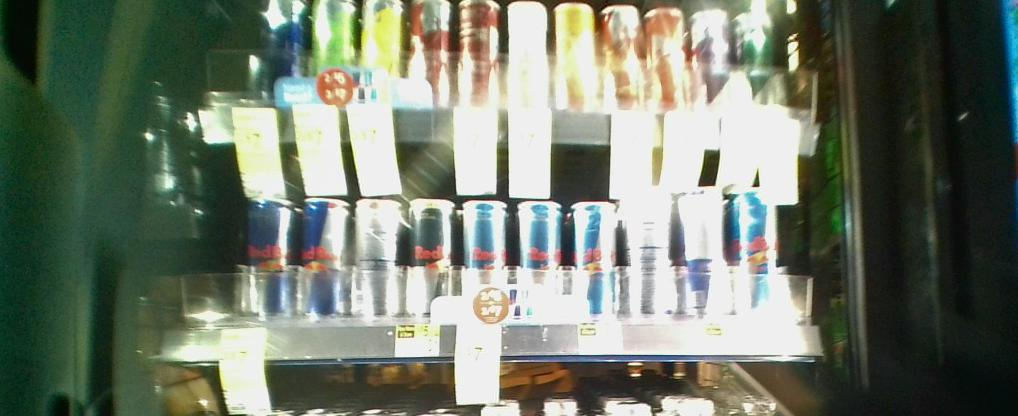bottle: (679, 186, 730, 328), (242, 192, 295, 317), (459, 194, 510, 320), (625, 184, 673, 317), (737, 187, 782, 326), (354, 186, 401, 319), (300, 194, 350, 318), (517, 184, 563, 318), (404, 189, 450, 321), (568, 196, 619, 315)
